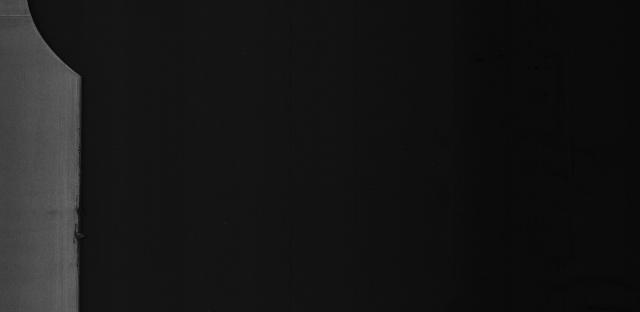welding_line: (0, 7, 46, 24)
